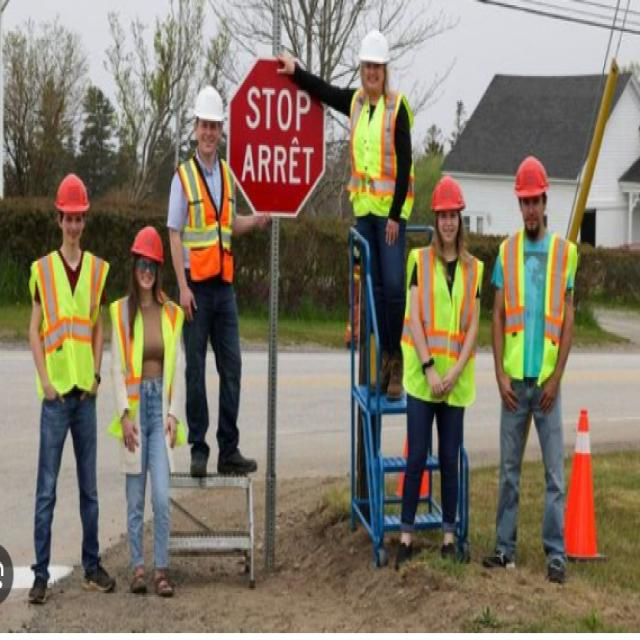hard_hat: (510, 152, 550, 239), (52, 170, 93, 246), (426, 173, 468, 247), (356, 26, 392, 104), (126, 222, 165, 292), (191, 84, 227, 156)
shoes: (27, 555, 119, 609), (480, 542, 571, 590), (385, 531, 472, 571), (186, 436, 260, 483), (371, 338, 410, 402)
vest: (400, 240, 486, 412), (105, 287, 192, 448), (21, 244, 110, 401), (498, 225, 580, 391), (348, 86, 417, 226), (178, 154, 242, 291)
